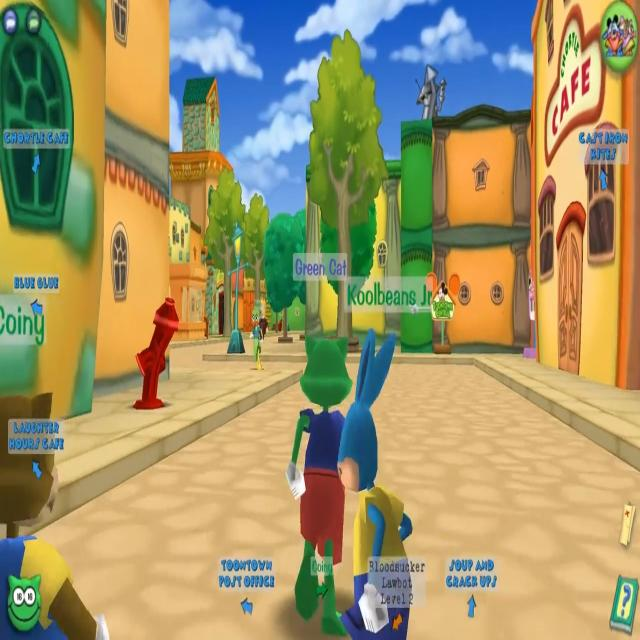flunky: (255, 302, 272, 341)
